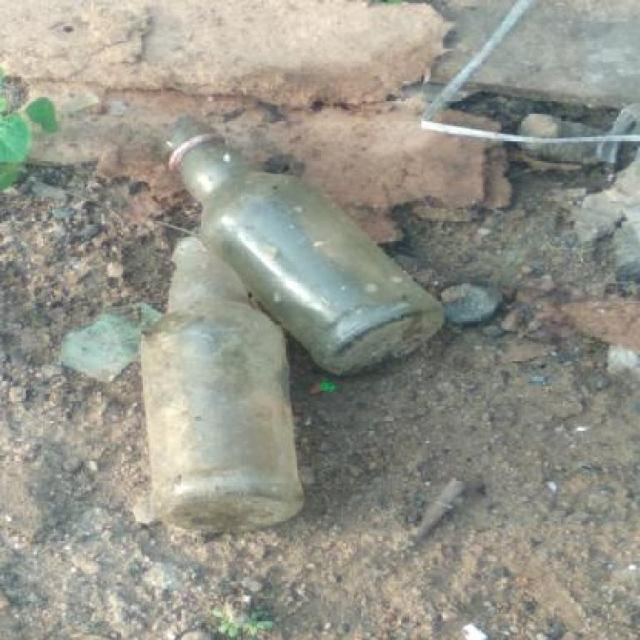garbage: (74, 114, 640, 538)
